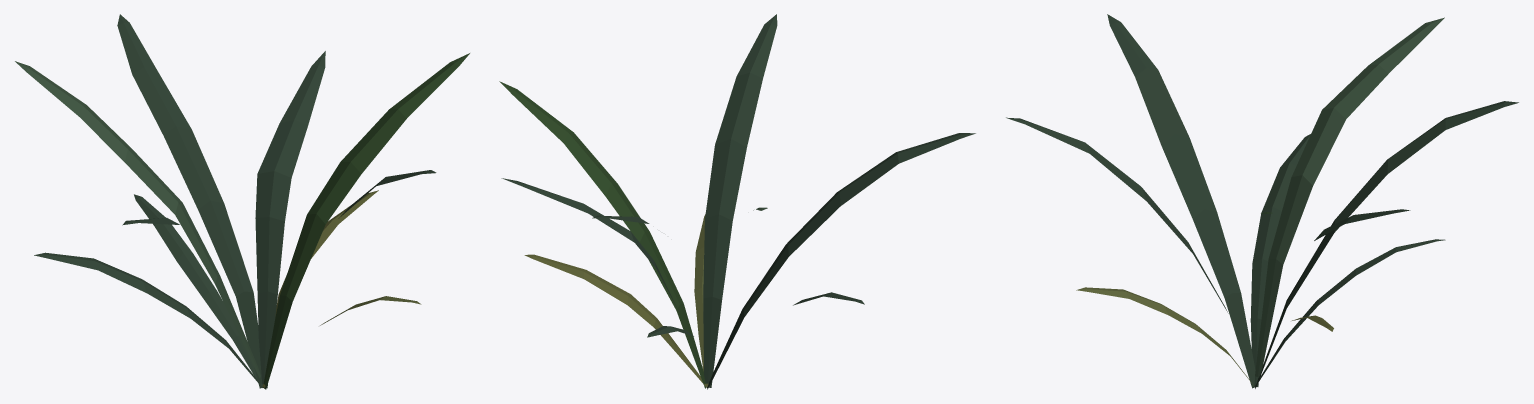
File: jungle-plant-06.glb
3 views of the same model, side by side, from view 1: azimuth 30°, elevation 25°; view 2: azimuth 150°, elevation 25°; view 3: azimuth 270°, elevation 25° (orthographic). The views are drawn at different scales.
Parts seen in each view (by area): view 1: JunglePlant_06; view 2: JunglePlant_06; view 3: JunglePlant_06.
Boxes of the visible parts, left/top/right/bottom form: JunglePlant_06: left=15, top=14, right=469, bottom=389; JunglePlant_06: left=499, top=14, right=975, bottom=389; JunglePlant_06: left=1006, top=14, right=1518, bottom=388.
Size of the model in its own units: 1.27 by 0.8399 by 1.33.
Materials: 1 (1 with a texture image).
